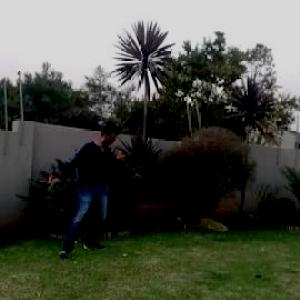land: (32, 110, 164, 272)
